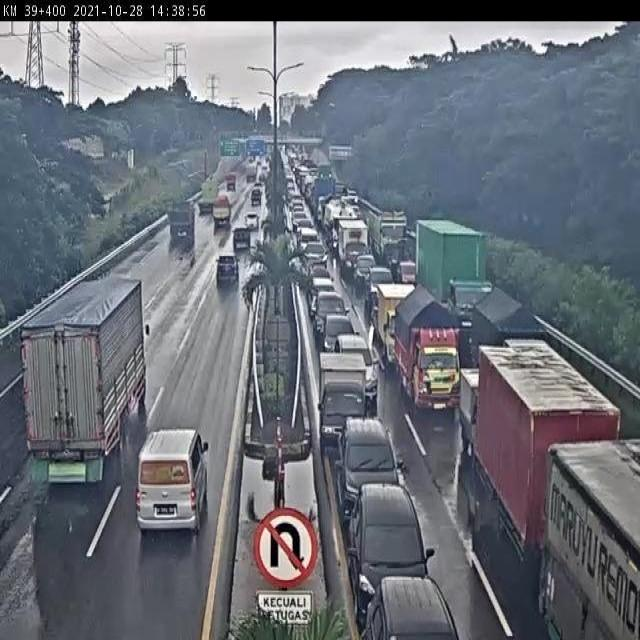Car: (347, 484, 437, 619), (334, 420, 406, 515), (368, 576, 462, 640), (215, 253, 240, 287), (231, 228, 252, 252)
Truck: (479, 345, 640, 640), (20, 279, 154, 493), (395, 286, 464, 415), (474, 285, 550, 399), (417, 219, 492, 330), (316, 353, 371, 456), (378, 283, 421, 368), (340, 220, 371, 274), (169, 200, 196, 239), (199, 181, 219, 214), (213, 196, 233, 226)
Van: (139, 428, 209, 538)
